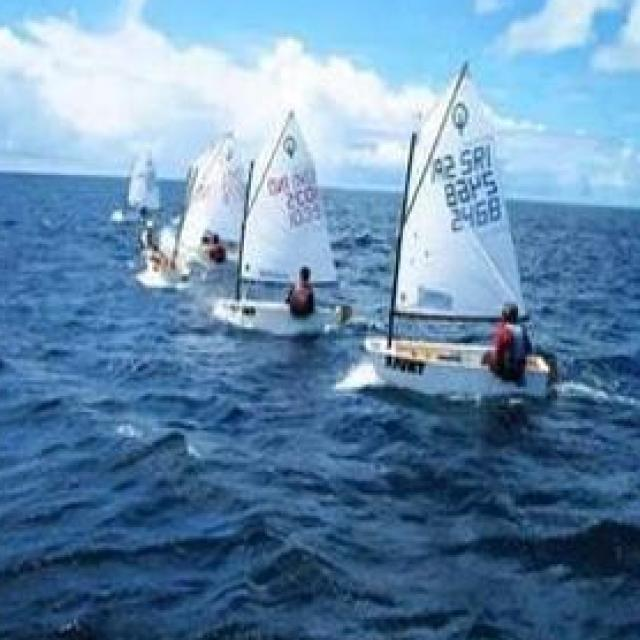sailboat: (360, 62, 561, 393), (214, 110, 339, 336), (135, 146, 218, 288), (199, 128, 252, 261), (111, 140, 169, 226)
